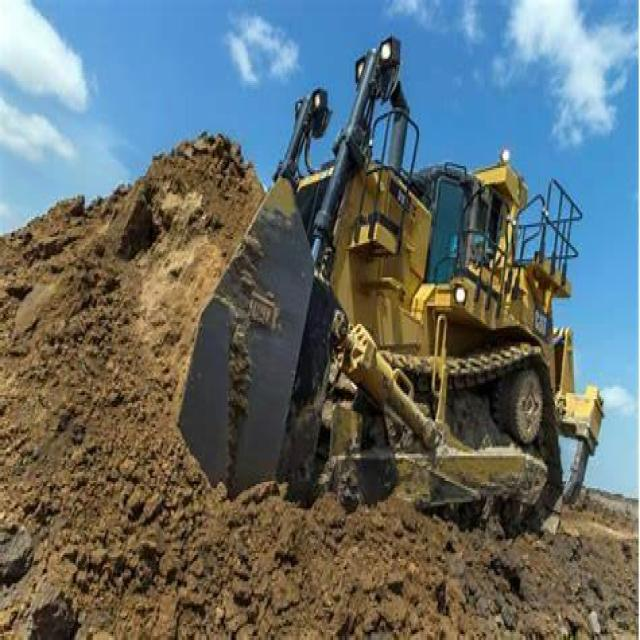buldozerpayloadergrader: (96, 42, 601, 557)
